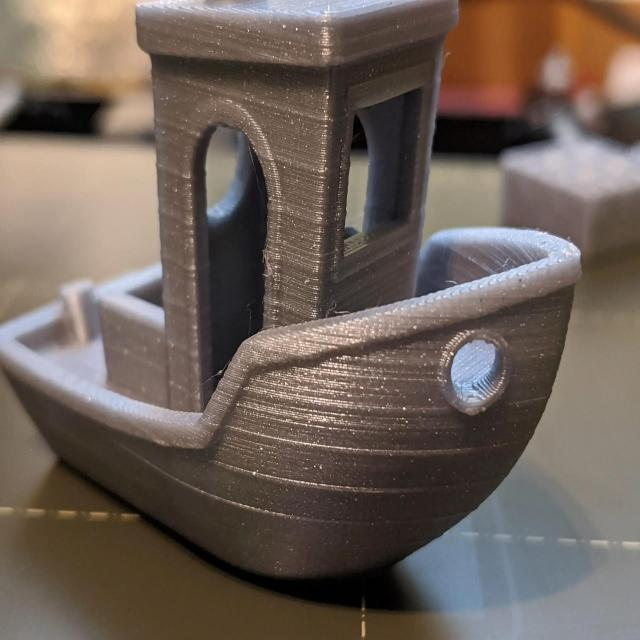Without deffect: (3, 1, 591, 603)
